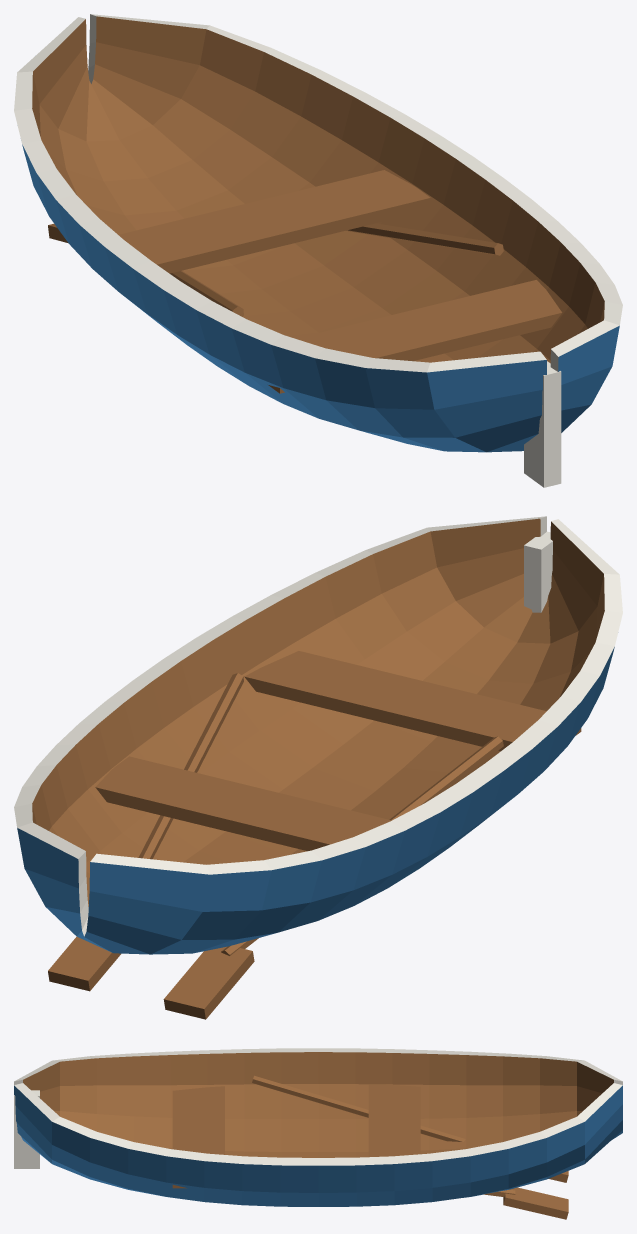
Rendered from Prop_Rowboat.fbx.
3 renders of one model, top to bottom at view 1: azimuth 30°, elevation 25°; view 2: azimuth 150°, elevation 25°; view 3: azimuth 270°, elevation 25°, orthographic. The views are drawn at different scales.
Parts seen in each view (by area): view 1: Prop_Rowboat.001; view 2: Prop_Rowboat.001; view 3: Prop_Rowboat.001.
Boxes of the visible parts, left/top/right/bottom form: Prop_Rowboat.001: left=14, top=14, right=622, bottom=487; Prop_Rowboat.001: left=14, top=516, right=622, bottom=1019; Prop_Rowboat.001: left=14, top=1048, right=622, bottom=1219.
Size of the model in its own units: 1.28 by 0.5765 by 2.8.
